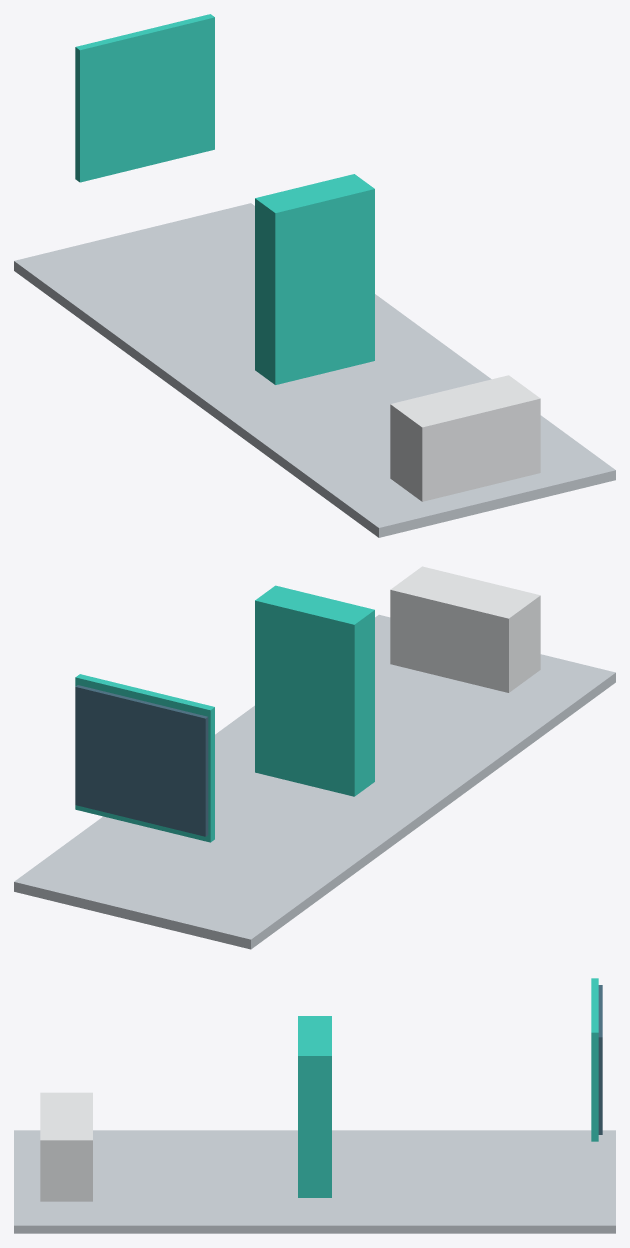
3 renders of one model, top to bottom at view 1: azimuth 30°, elevation 25°; view 2: azimuth 150°, elevation 25°; view 3: azimuth 270°, elevation 25°, orthographic. The views are drawn at different scales.
Parts seen in each view (by area): view 1: Exhibition Booth Concept; view 2: Exhibition Booth Concept; view 3: Exhibition Booth Concept.
Part boxes in pixels (<box>): Exhibition Booth Concept: <box>14,14,615,537</box>; Exhibition Booth Concept: <box>14,566,615,949</box>; Exhibition Booth Concept: <box>14,978,615,1233</box>.
Size of the model in its own units: 3 by 2.65 by 8.
